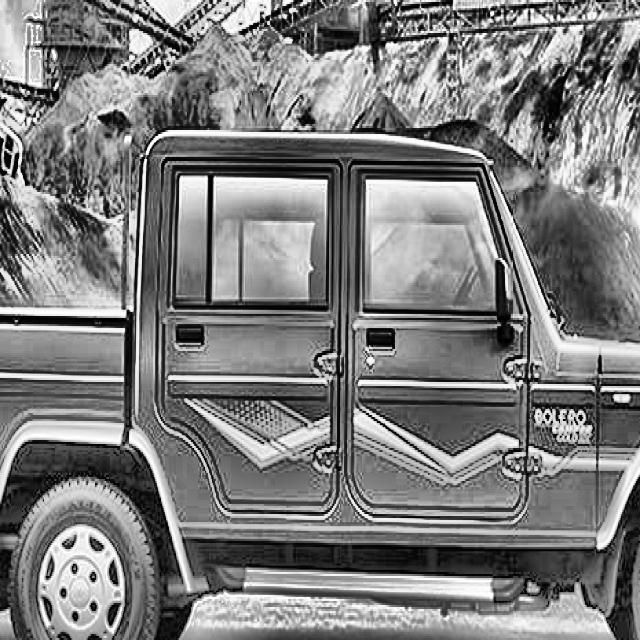light_vehicle: (0, 119, 640, 640)
